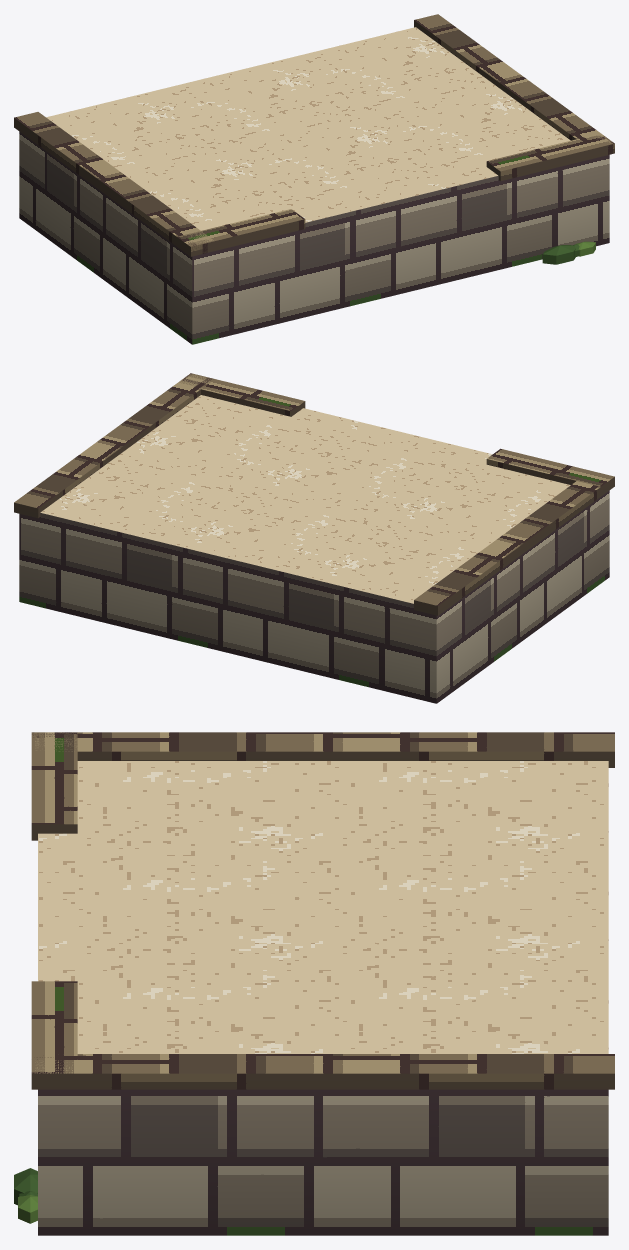
File: scene_warden_terrace.glb
The picture shows the model from 3 angles, top to bottom: view 1: azimuth 30°, elevation 25°; view 2: azimuth 150°, elevation 25°; view 3: azimuth 270°, elevation 25°; orthographic projection. The views are drawn at different scales.
Visible parts, largest first — view 1: scene_warden_terrace; view 2: scene_warden_terrace; view 3: scene_warden_terrace.
Part boxes in pixels (x1,y1,x2,y2): scene_warden_terrace: (14, 14, 614, 344); scene_warden_terrace: (14, 373, 614, 703); scene_warden_terrace: (14, 732, 614, 1235).
Bounding box in the file's own units: 6.3 × 1.51 × 4.69.
Materials: 3 (2 with a texture image).
